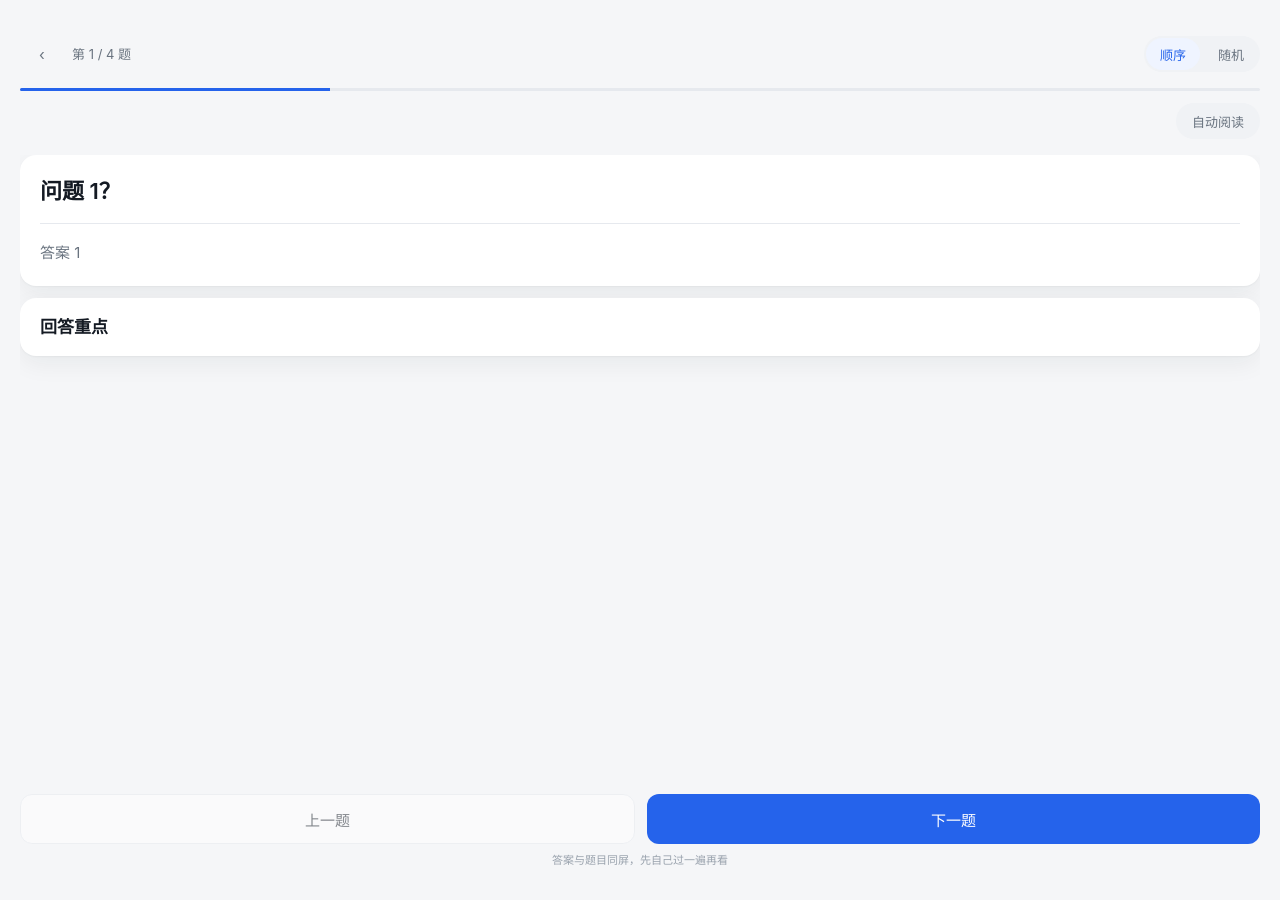
Test: Recite · 顺序 / 随机 › 切到随机：题目换成打乱后的顺序，且写回了一条 1..N 的排列
The width and height of the screenshot is (1280, 900).
Expected: the text "问题 1？" is shown, [40,178,121,204]
Click the button "随机" at (1231, 54), box [1204,38,1258,70]
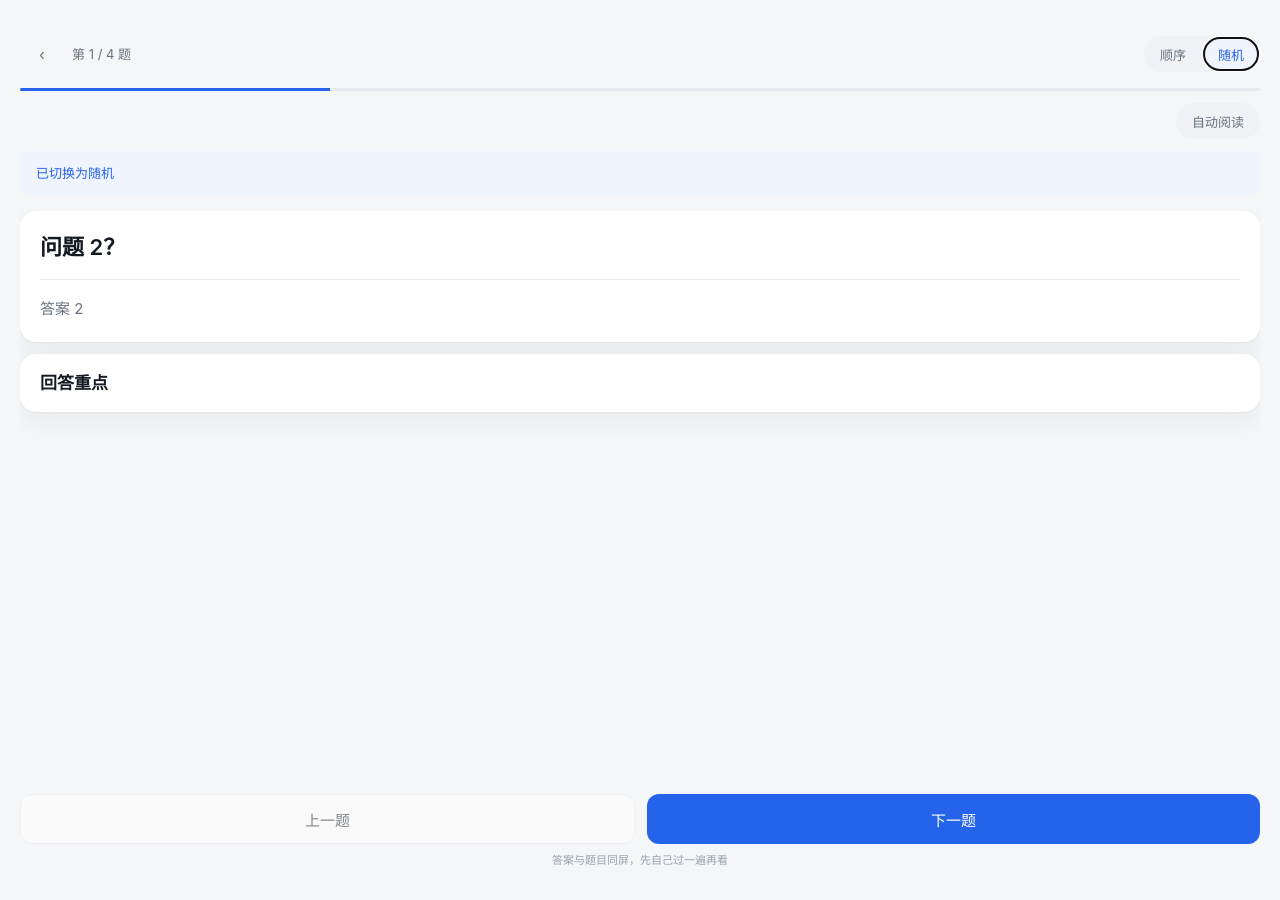
Now the text "问题 1？" is gone
Now the text "已切换为随机" is shown, box [20,151,1260,195]
